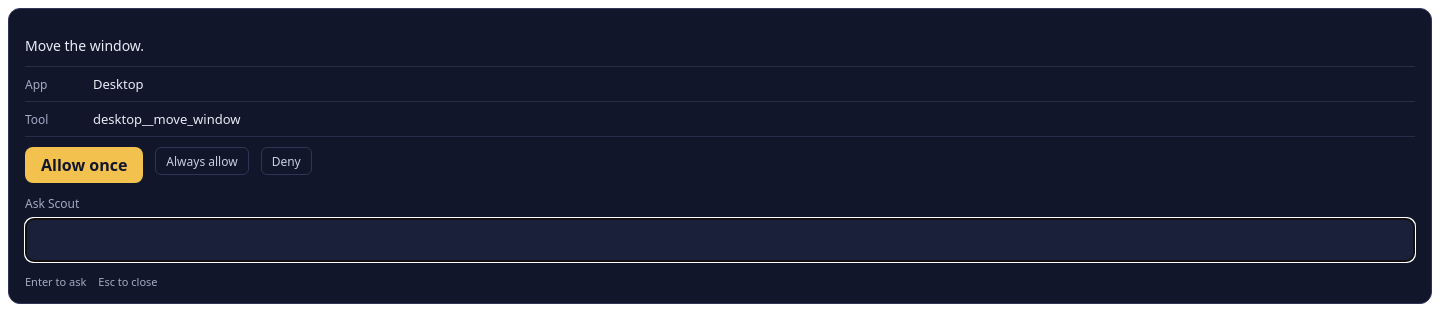
Test: the connector confirm card › an ask from the brain's tool gate › shows every open ask in turn: answering the first brings up the second
The width and height of the screenshot is (1440, 321).
Expected: the text "Move the window." is shown, [25, 36, 144, 55]
Expected: the text "Close the tab." is not shown
Click the button "Allow once": (84, 165) [25, 147, 143, 183]
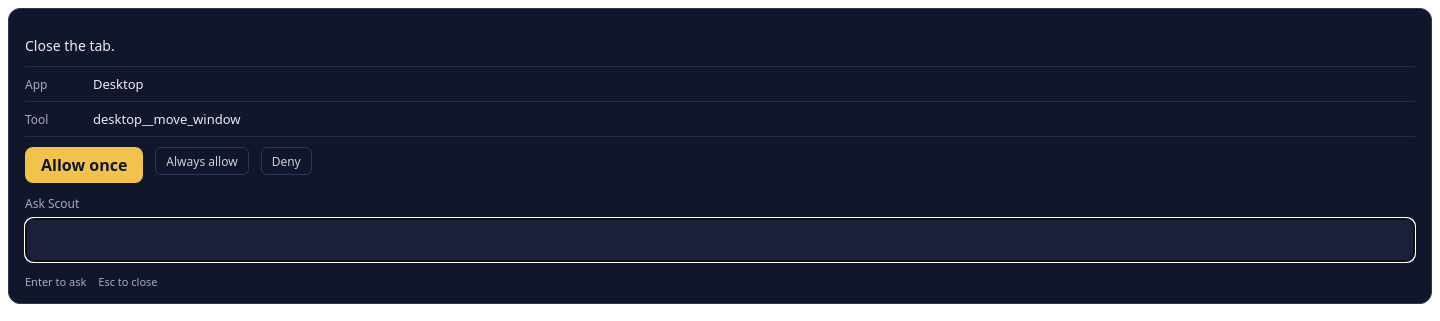
Expected: the text "Close the tab." is shown, [25, 36, 115, 55]
